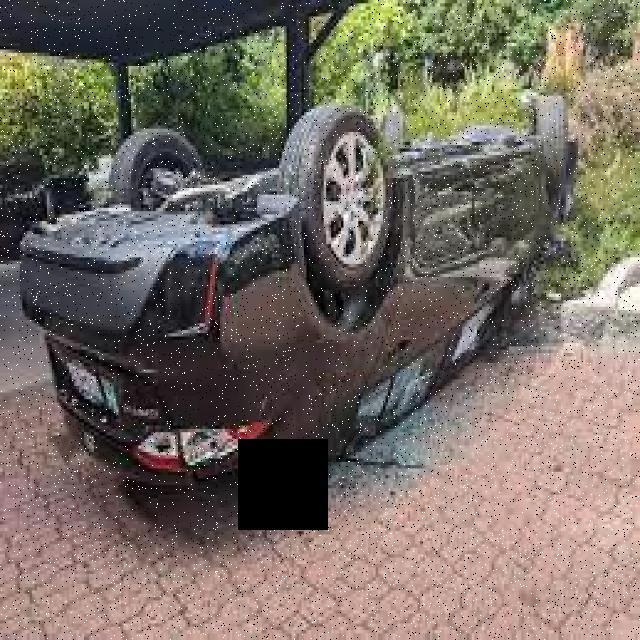single accident: (13, 96, 619, 451)
